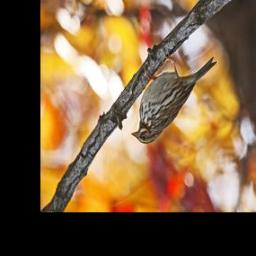Sparrow: (130, 51, 216, 146)
